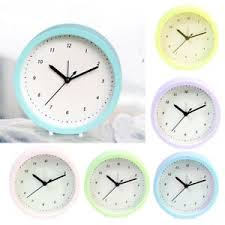alarm_clock: (12, 19, 120, 134), (12, 27, 120, 134), (16, 27, 120, 134)
